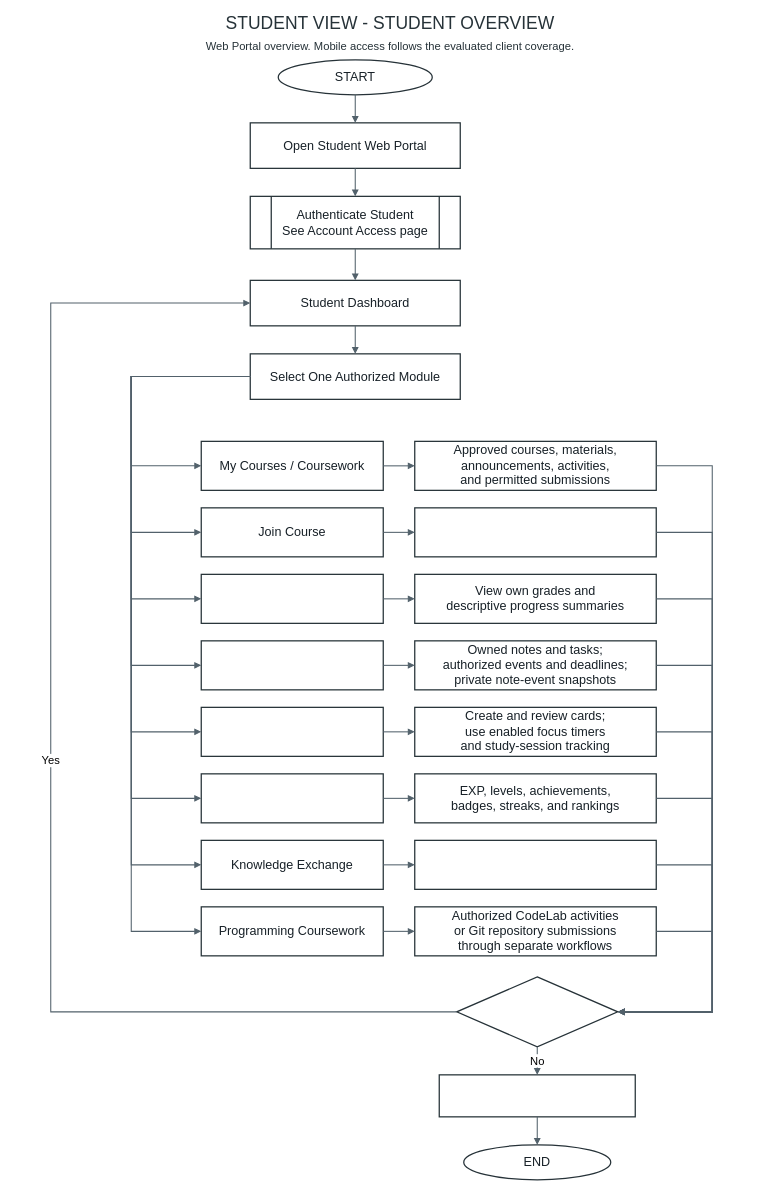
The diagram is 780 pixels wide and 1193 high, and some of its shapes have lost their labels. The shapes that lost their labels are listed below. From the top down, each one's centre as x and y in pixels, then its label:
At pixel 535 532: "Submit enrollment request See Enrollment page".
At pixel 292 598: "Personal Grades".
At pixel 292 665: "Personal Workspace".
At pixel 292 731: "Flashcards / Study Tools".
At pixel 292 798: "Gamification".
At pixel 535 864: "Questions, answers, resources, faculty-verified answers, and forum reputation".
At pixel 537 1011: "Another Action?".
At pixel 537 1095: "Log Out / End Session".
